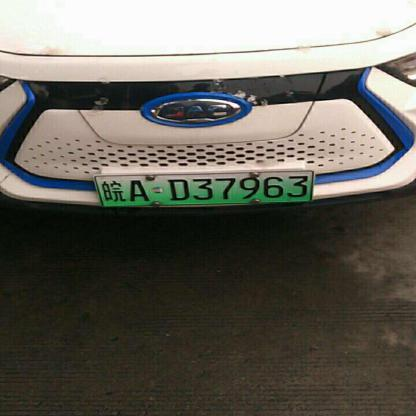lp: (95, 171, 312, 205)
